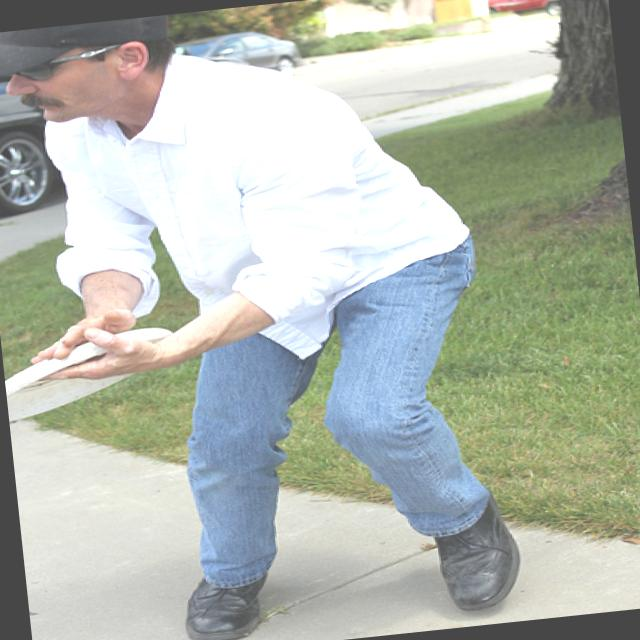Vehicle: (0, 27, 60, 219), (174, 27, 304, 88), (485, 0, 561, 23)
